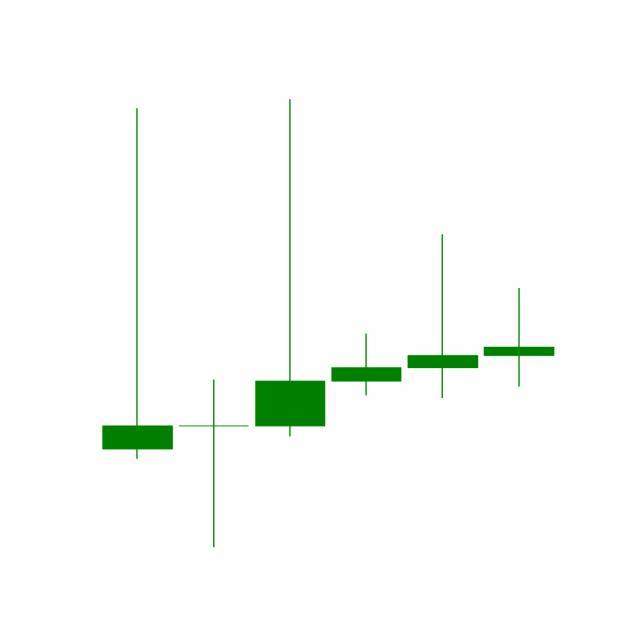Spinning Top: (404, 233, 482, 402)
